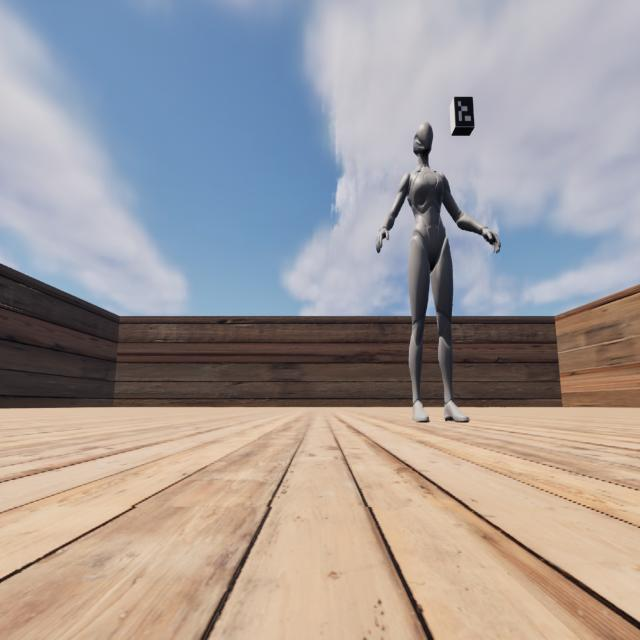aruco: (455, 96, 475, 128)
hip: (409, 236, 450, 249)
